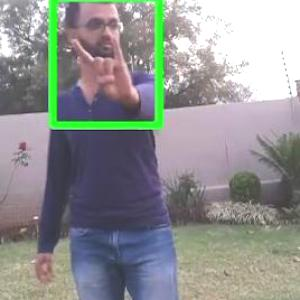takeoff-hand: (69, 26, 134, 105)
